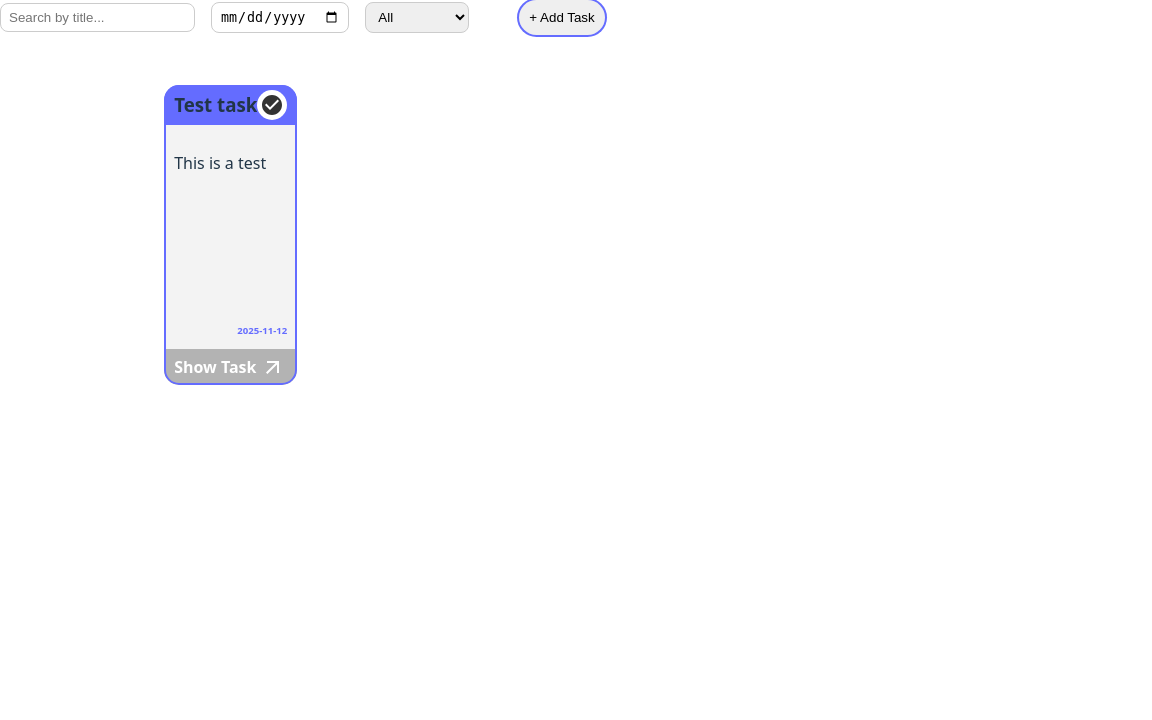
Scenario: Tasks component › shows modal when clicking + Add Task
What coordinates should you click on to do the following:
click the button with aria-label "add new task"
I would click on:
 (562, 18)
Its box is x1=519 y1=0 x2=605 y2=35.
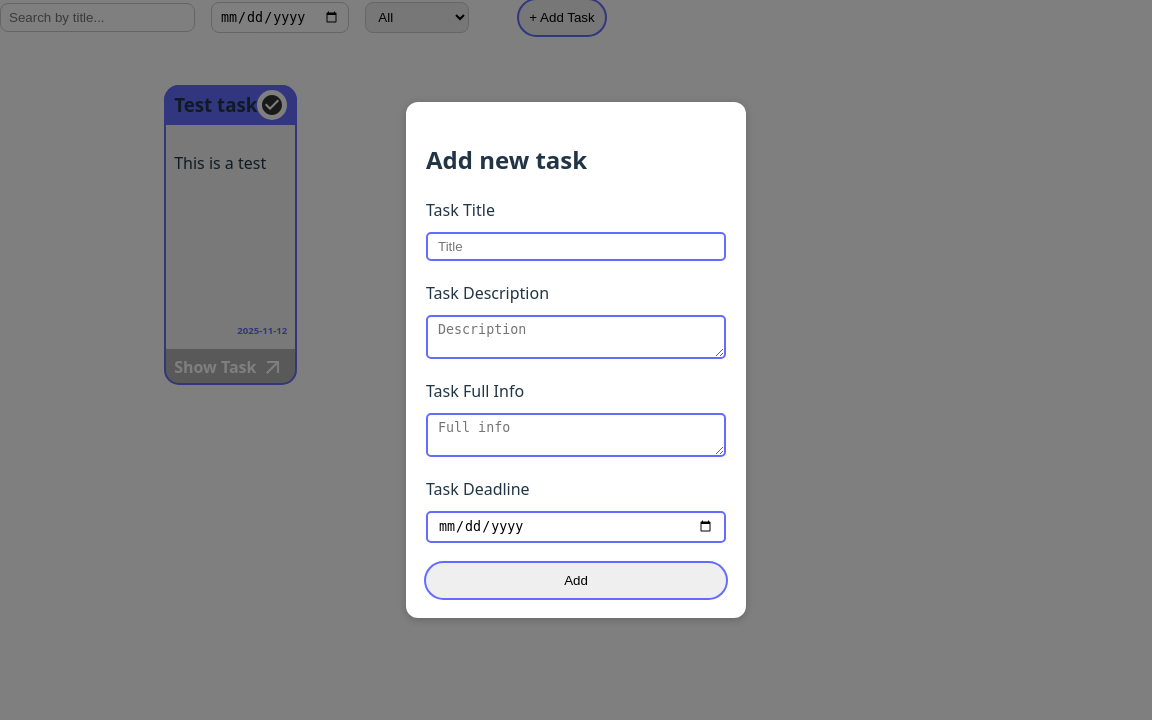
Result: the heading "Add new task" is shown at x1=426 y1=143 x2=587 y2=176
